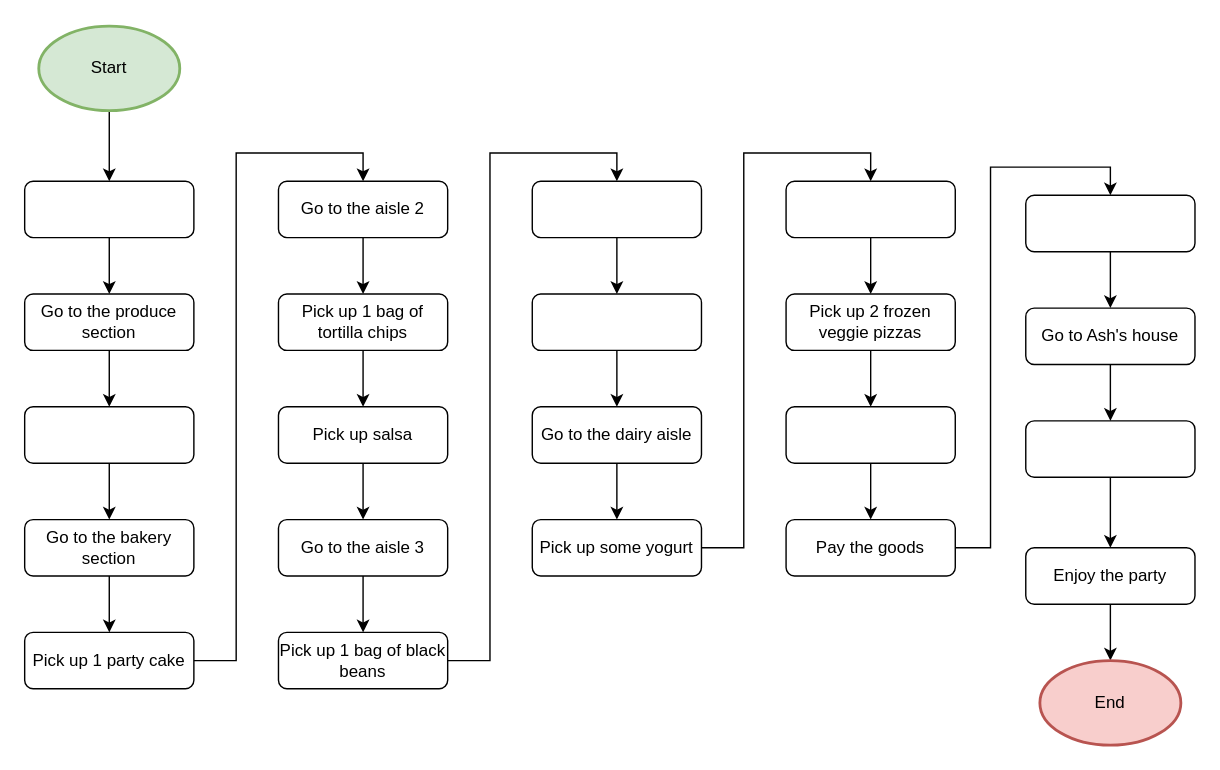
The diagram is 1220 pixels wide and 770 high, and some of its shapes have lost their labels. The centre of each missing label's shape, as x and y in pixels:
"Go to the aisle 5" belongs at [616,209].
"Go to the aisle 6" belongs at [870,209].
"Go to the checkout area" belongs at [870,434].
"Go to the grocery store" belongs at [108,209].
"Help prepare the food and beverages" belongs at [1109,448].
"Leave the grocery store" belongs at [1109,223].
"Pick up 1 bag of paper plates" belongs at [616,321].
"Pick up 1 bunch of bananas" belongs at [108,434].
